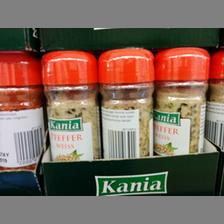Gewuerze: (98, 46, 154, 158), (42, 50, 98, 160), (154, 46, 210, 154), (0, 49, 42, 171)
